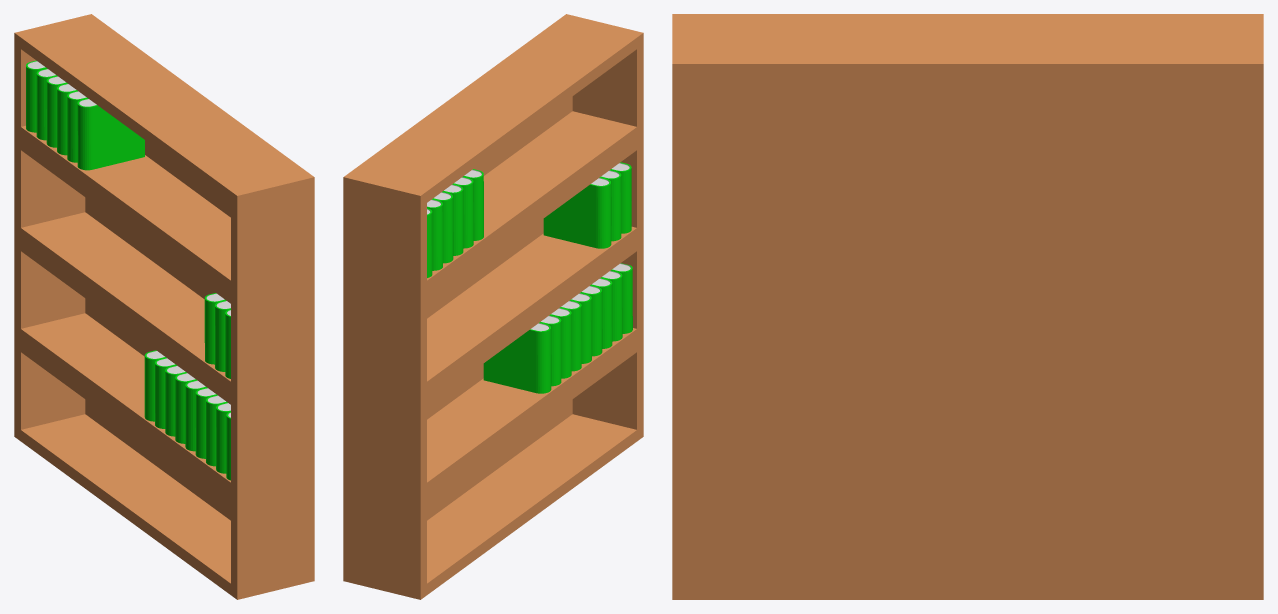
The model's file is libreroVerde.glb.
3 renders of one model, left to right at view 1: azimuth 30°, elevation 25°; view 2: azimuth 150°, elevation 25°; view 3: azimuth 270°, elevation 25°, orthographic. The views are drawn at different scales.
Visible parts, largest first — view 1: Librero; view 2: Librero; view 3: Librero.
Part boxes in pixels (x1=…): Librero: x1=14, y1=14, x2=314, y2=599; Librero: x1=343, y1=14, x2=643, y2=599; Librero: x1=672, y1=14, x2=1263, y2=599.
Bounding box in the file's own units: 0.67 × 3.35 × 3.35.
